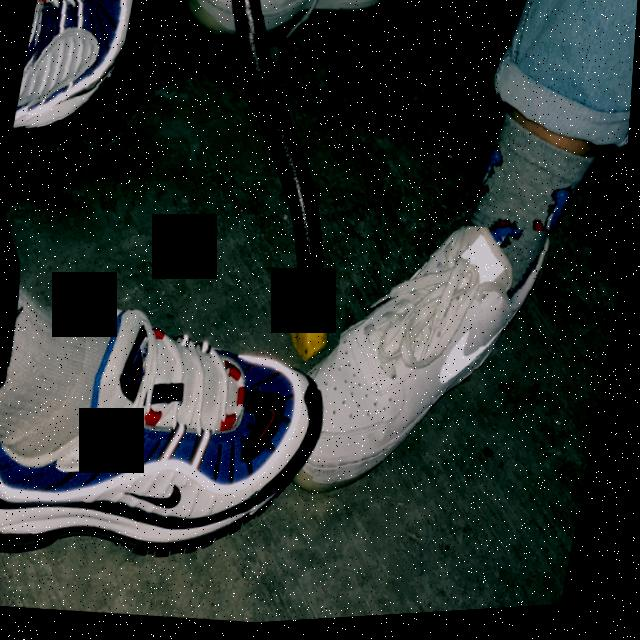shoe: (0, 279, 350, 590), (293, 212, 561, 529), (8, 0, 137, 175), (176, 0, 397, 58)
